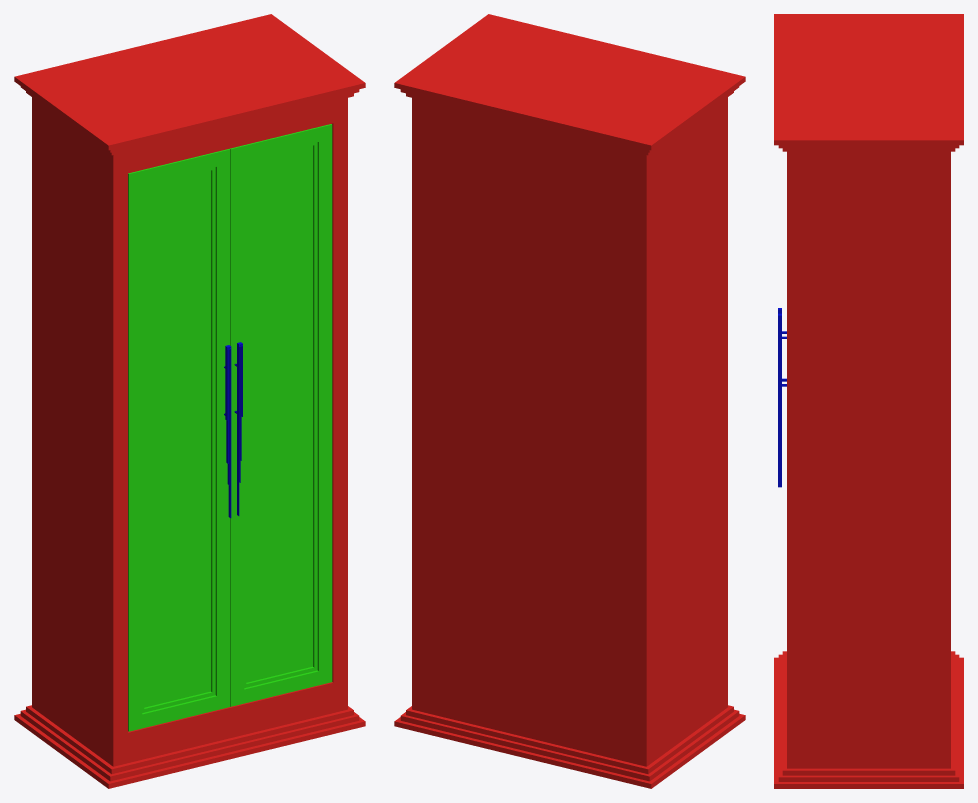
Rendered from Closet.fbx.
3 views of the same model, side by side, from view 1: azimuth 30°, elevation 25°; view 2: azimuth 150°, elevation 25°; view 3: azimuth 270°, elevation 25° (orthographic).
Parts seen in each view (by area): view 1: closet, doors, handles; view 2: closet; view 3: closet, handles.
Part boxes in pixels (x1,y1,x2,y2): closet: (14,14,365,788); doors: (128,124,332,731); handles: (224,342,242,518); closet: (394,14,745,788); closet: (774,14,963,788); handles: (778,308,786,487).
Size of the model in its own units: 109 by 262 by 69.5.
